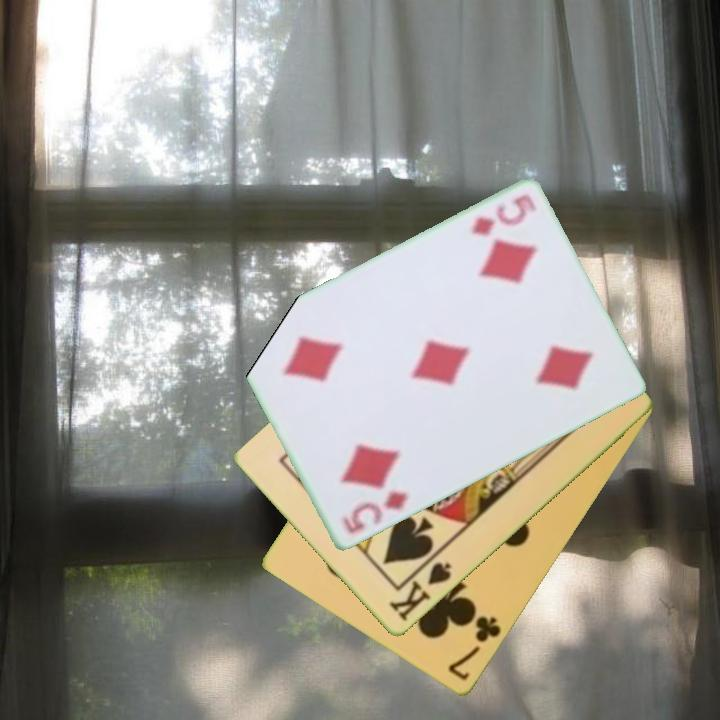5d: (338, 488, 412, 538), (468, 191, 539, 240)
7c: (444, 613, 504, 685)
Ks: (385, 559, 455, 625)
